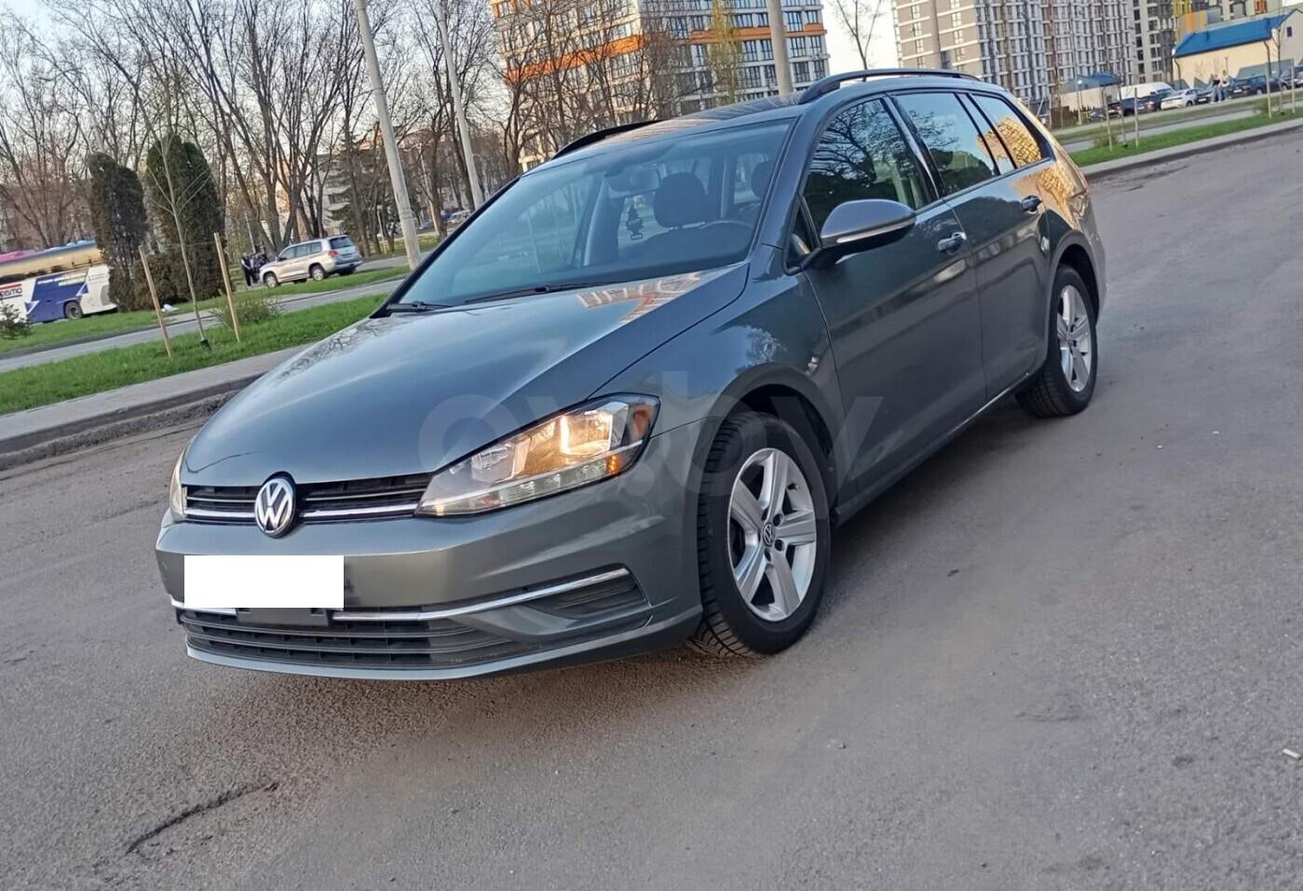Golf_2017-2021: (151, 80, 1100, 678)
